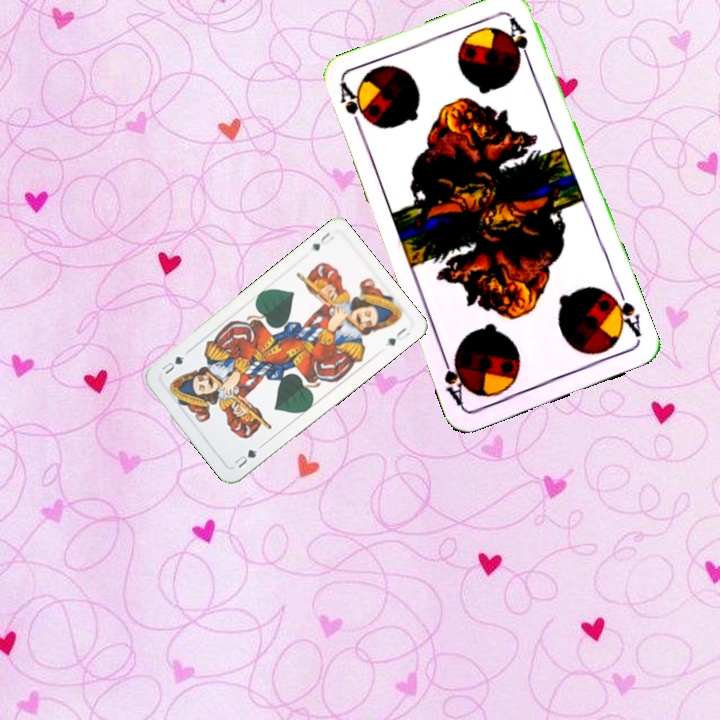GU: (230, 445, 260, 471), (307, 228, 336, 253)
SA: (604, 284, 644, 340), (336, 79, 368, 136)
